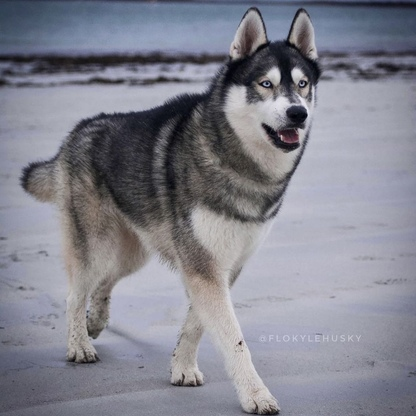husky: (16, 2, 327, 416)
